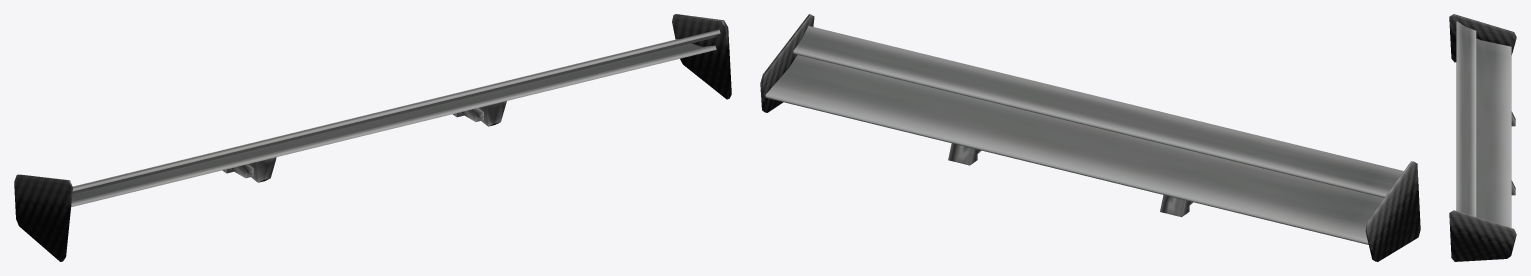
File: spl_b_bar_m.glb
3 renders of one model, left to right at view 1: azimuth 30°, elevation 25°; view 2: azimuth 150°, elevation 25°; view 3: azimuth 270°, elevation 25°, orthographic. The views are drawn at different scales.
Parts seen in each view (by area): view 1: spl_b_bar_m; view 2: spl_b_bar_m; view 3: spl_b_bar_m.
Part boxes in pixels (box(x1,y1,x2,y2)): spl_b_bar_m: box(14, 14, 731, 261); spl_b_bar_m: box(760, 14, 1420, 261); spl_b_bar_m: box(1449, 14, 1516, 261).
Size of the model in its own units: 1.71 by 0.1975 by 0.2437.
Materials: 1 (1 with a texture image).
